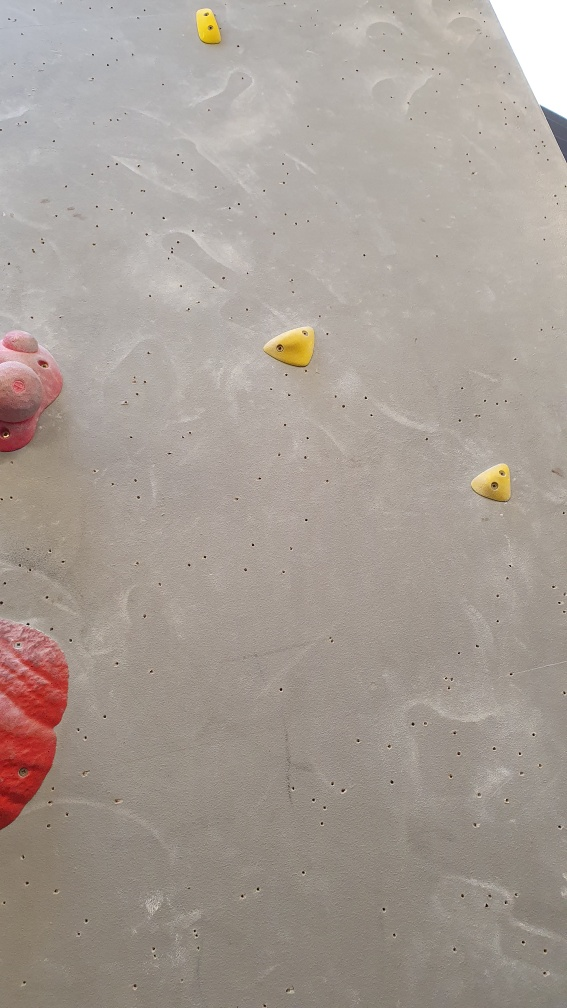Pinch: (191, 2, 225, 48)
